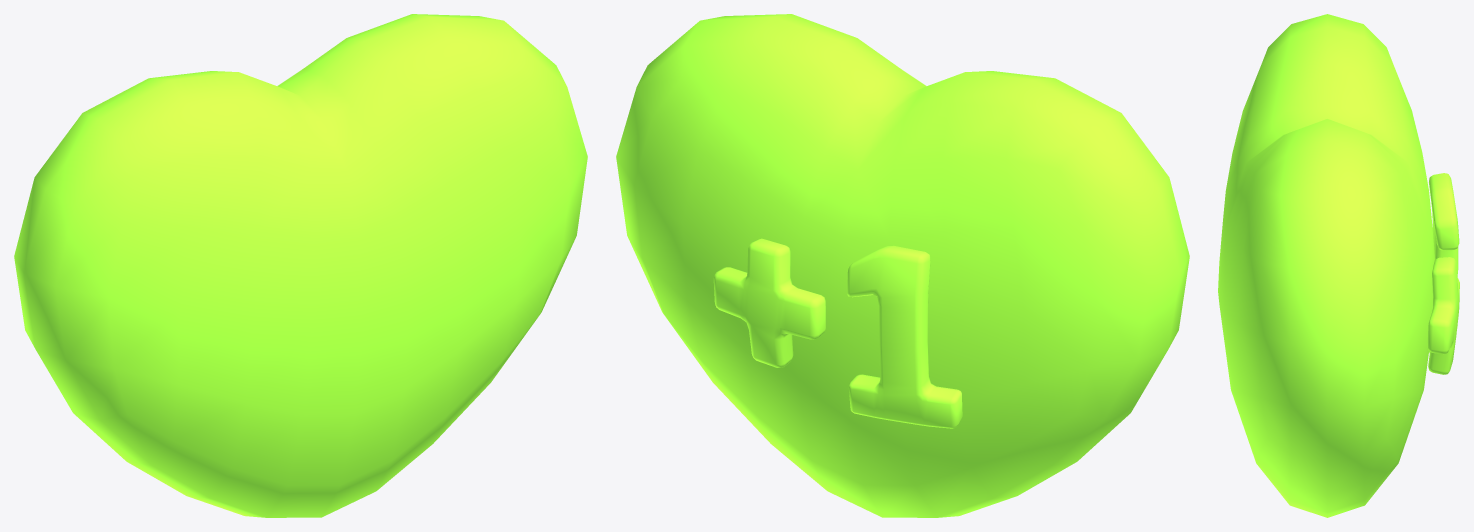
File: SM_powerup_extra_life.fbx
The picture shows the model from 3 angles, left to right: view 1: azimuth 30°, elevation 25°; view 2: azimuth 150°, elevation 25°; view 3: azimuth 270°, elevation 25°; orthographic projection. The views are drawn at different scales.
Visible parts, largest first — view 1: extra life; view 2: extra life; view 3: extra life.
Boxes of the visible parts, left/top/right/bottom form: extra life: left=14, top=14, right=587, bottom=517; extra life: left=616, top=14, right=1189, bottom=517; extra life: left=1218, top=14, right=1459, bottom=517.
Bounding box in the file's own units: 240 × 193 × 101.
